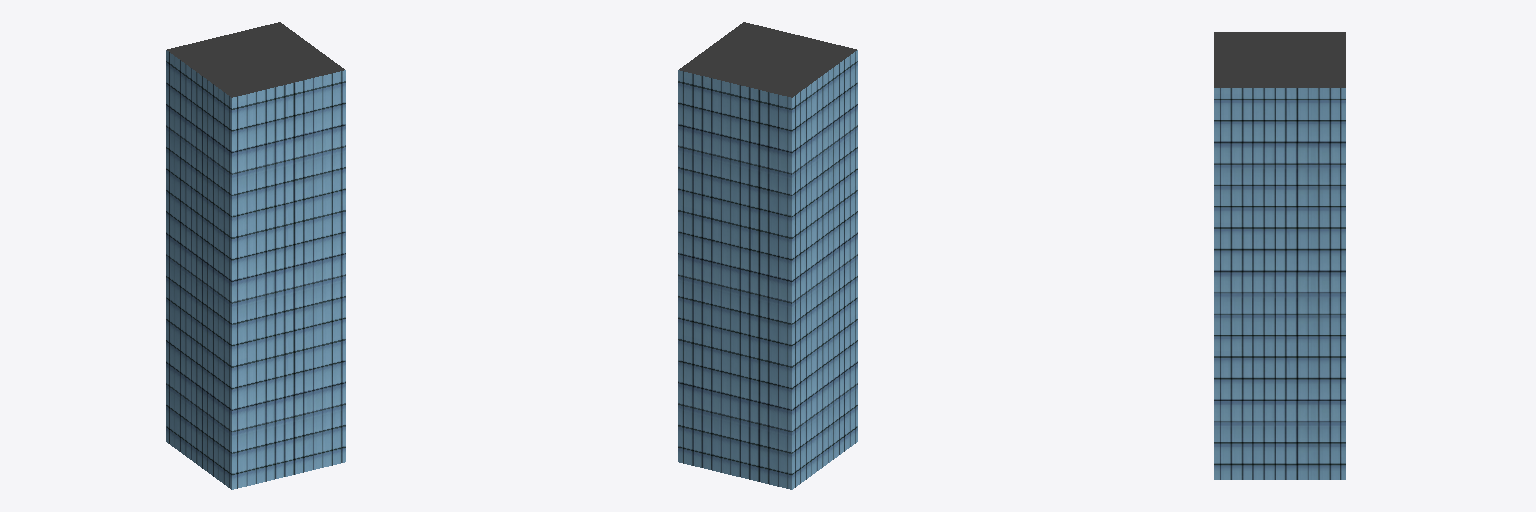
3 views of the same model, side by side, from view 1: azimuth 30°, elevation 25°; view 2: azimuth 150°, elevation 25°; view 3: azimuth 270°, elevation 25° (orthographic).
Visible parts, largest first — view 1: building_01_GEO_Cube.003; view 2: building_01_GEO_Cube.003; view 3: building_01_GEO_Cube.003.
Boxes of the visible parts, box(x1,y1,x2,y2) form: building_01_GEO_Cube.003: box(166, 22, 345, 489); building_01_GEO_Cube.003: box(678, 22, 857, 489); building_01_GEO_Cube.003: box(1214, 32, 1345, 479).
Size of the model in its own units: 1.04 by 3.44 by 1.04.
1 materials, 1 textured.